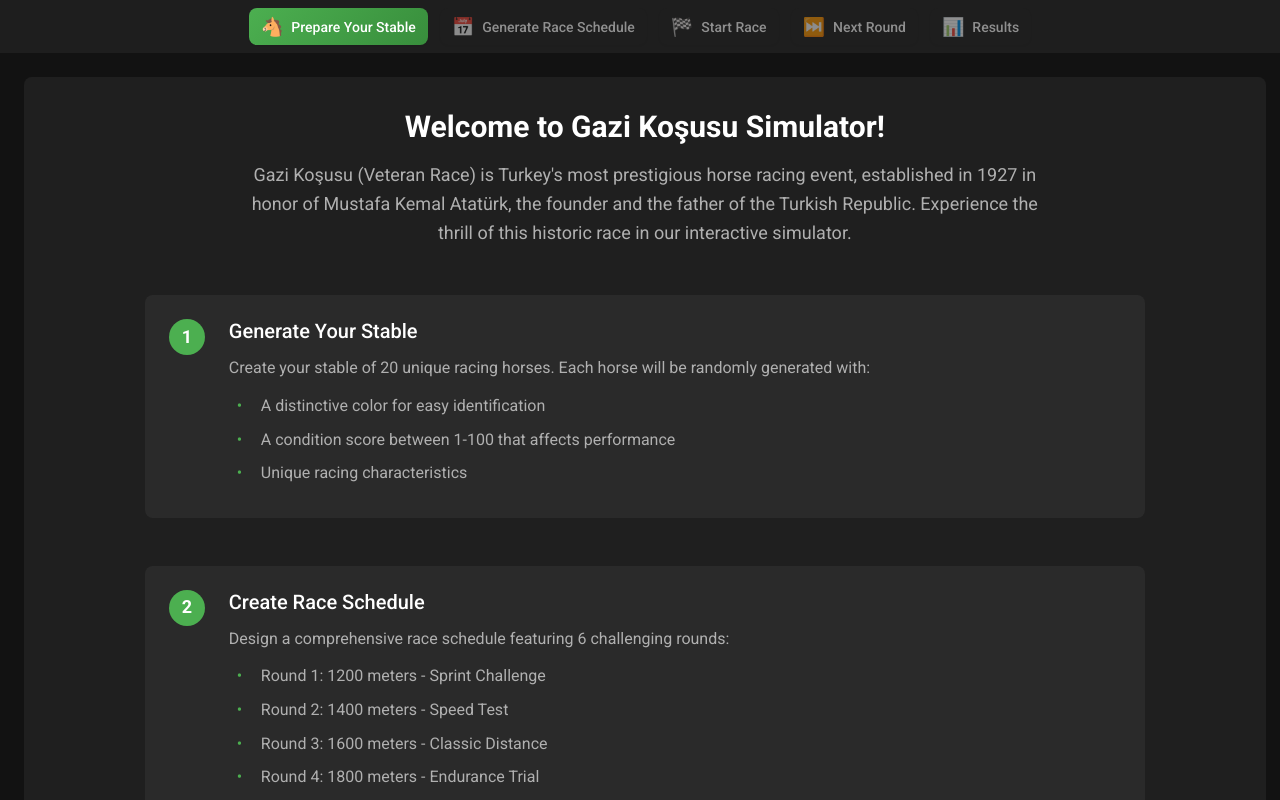
Test case: Gallop Arena › should generate a race schedule with 6 rounds and correct distances
The image size is (1280, 800).
Generate horses first
Click the button with test id "header-button-generate-horses".
click(339, 27)  # box x1=249 y1=8 x2=428 y2=45
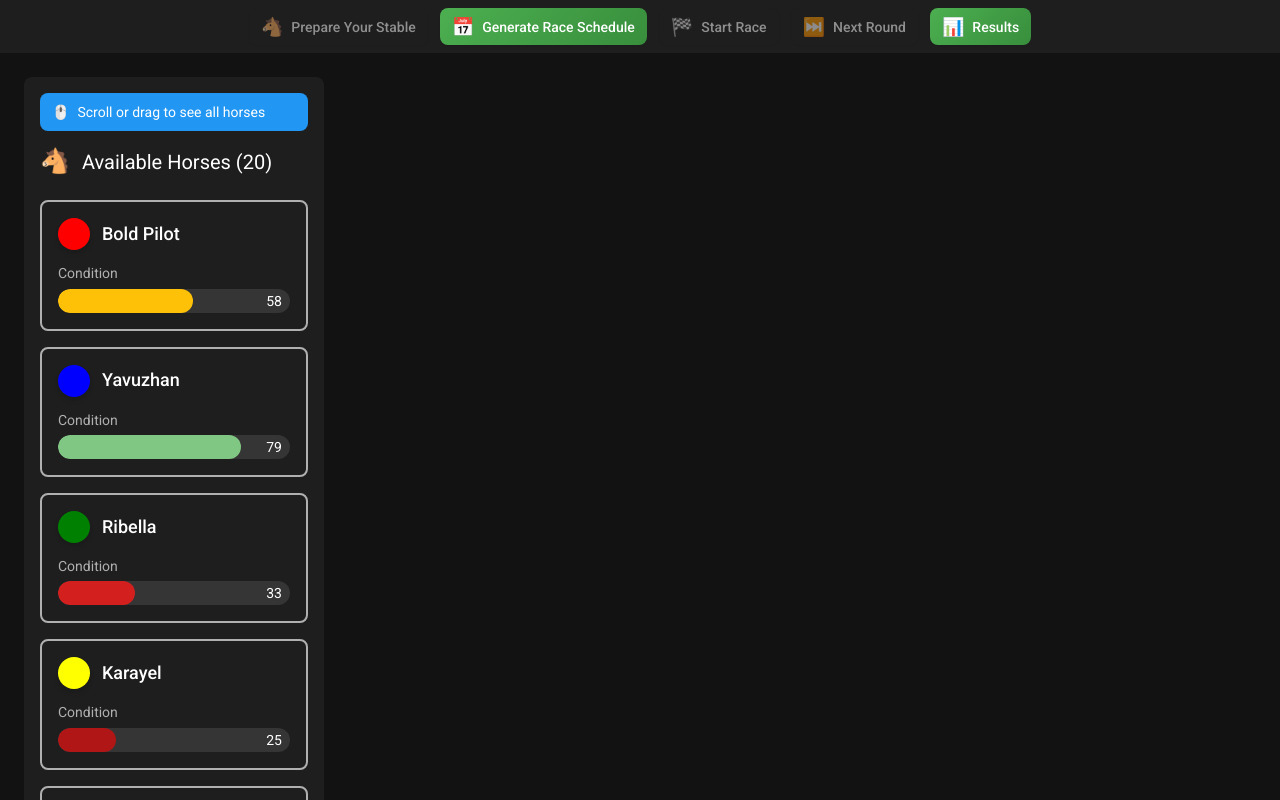
Expected: the element with test id "horse-list" is shown, x1=24 y1=77 x2=324 y2=799
Generate race schedule
Click the button with test id "header-button-generate-schedule".
click(544, 27)  # box x1=440 y1=8 x2=647 y2=45
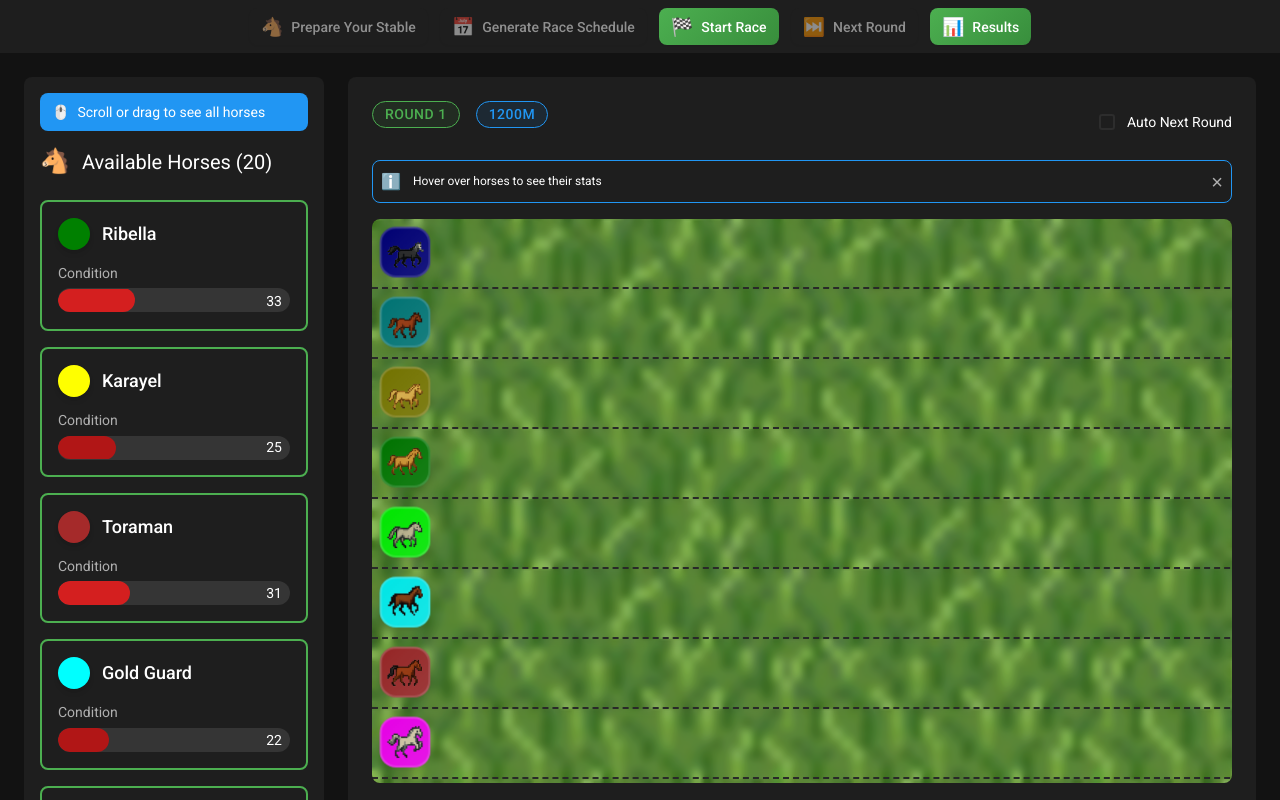
Open results menu to view all rounds
Click the button with test id "header-button-results".
click(981, 27)  # box x1=930 y1=8 x2=1031 y2=45
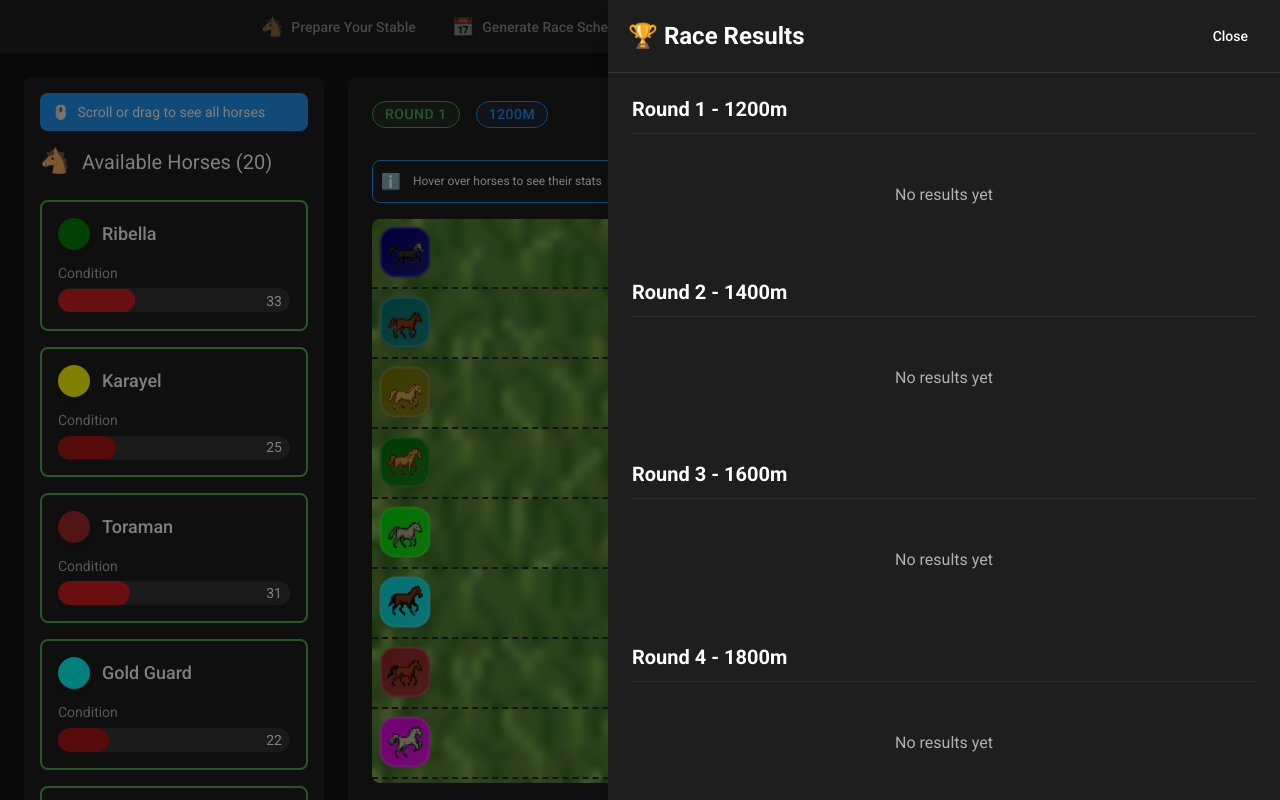
Expected: the element with test id "results-menu" is shown
Expected: the element with test id "results-menu-content" that starts with "🏆 Race Results" is shown, x1=608 y1=0 x2=1279 y2=799
Expected: the heading with test id "race-result" reads "Round 1 - 1200m", x1=632 y1=97 x2=787 y2=121
